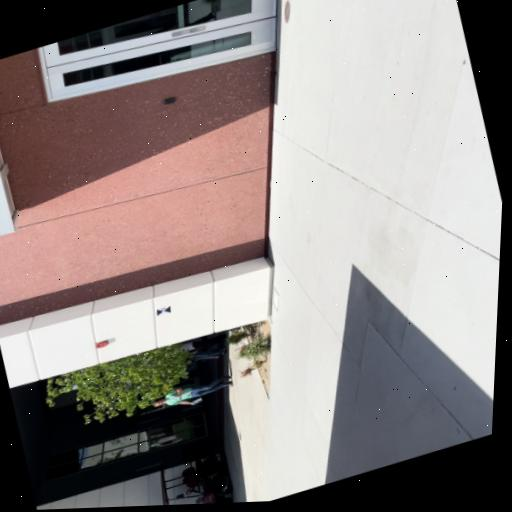target6: (155, 305, 172, 316)
